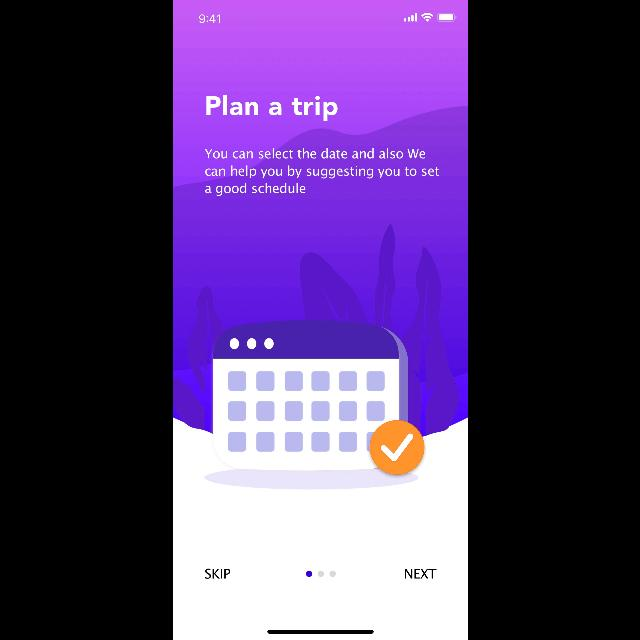image: (172, 224, 460, 491)
pageindicator: (305, 570, 335, 578)
text: (204, 148, 438, 196), (205, 95, 337, 122), (404, 568, 436, 580), (204, 568, 230, 580)
uppertaskbar: (198, 12, 456, 24)
